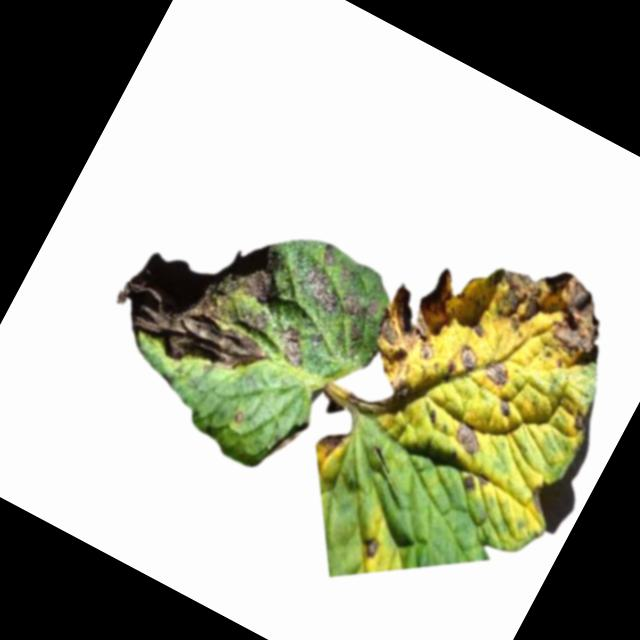Early_blight: (103, 193, 314, 399), (468, 240, 627, 375), (360, 250, 471, 385), (285, 240, 396, 347), (341, 358, 424, 437), (263, 317, 319, 372), (447, 419, 490, 461), (480, 357, 515, 393), (450, 344, 480, 378), (567, 408, 598, 440), (356, 532, 385, 560), (490, 395, 517, 422)
